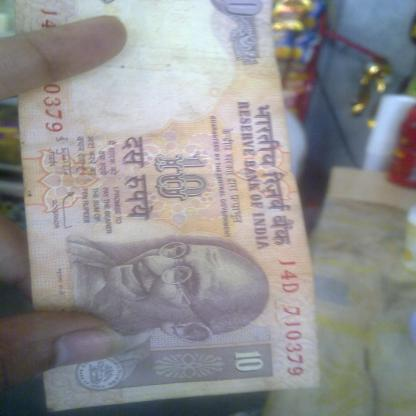Old10Front: (10, 0, 324, 413)
